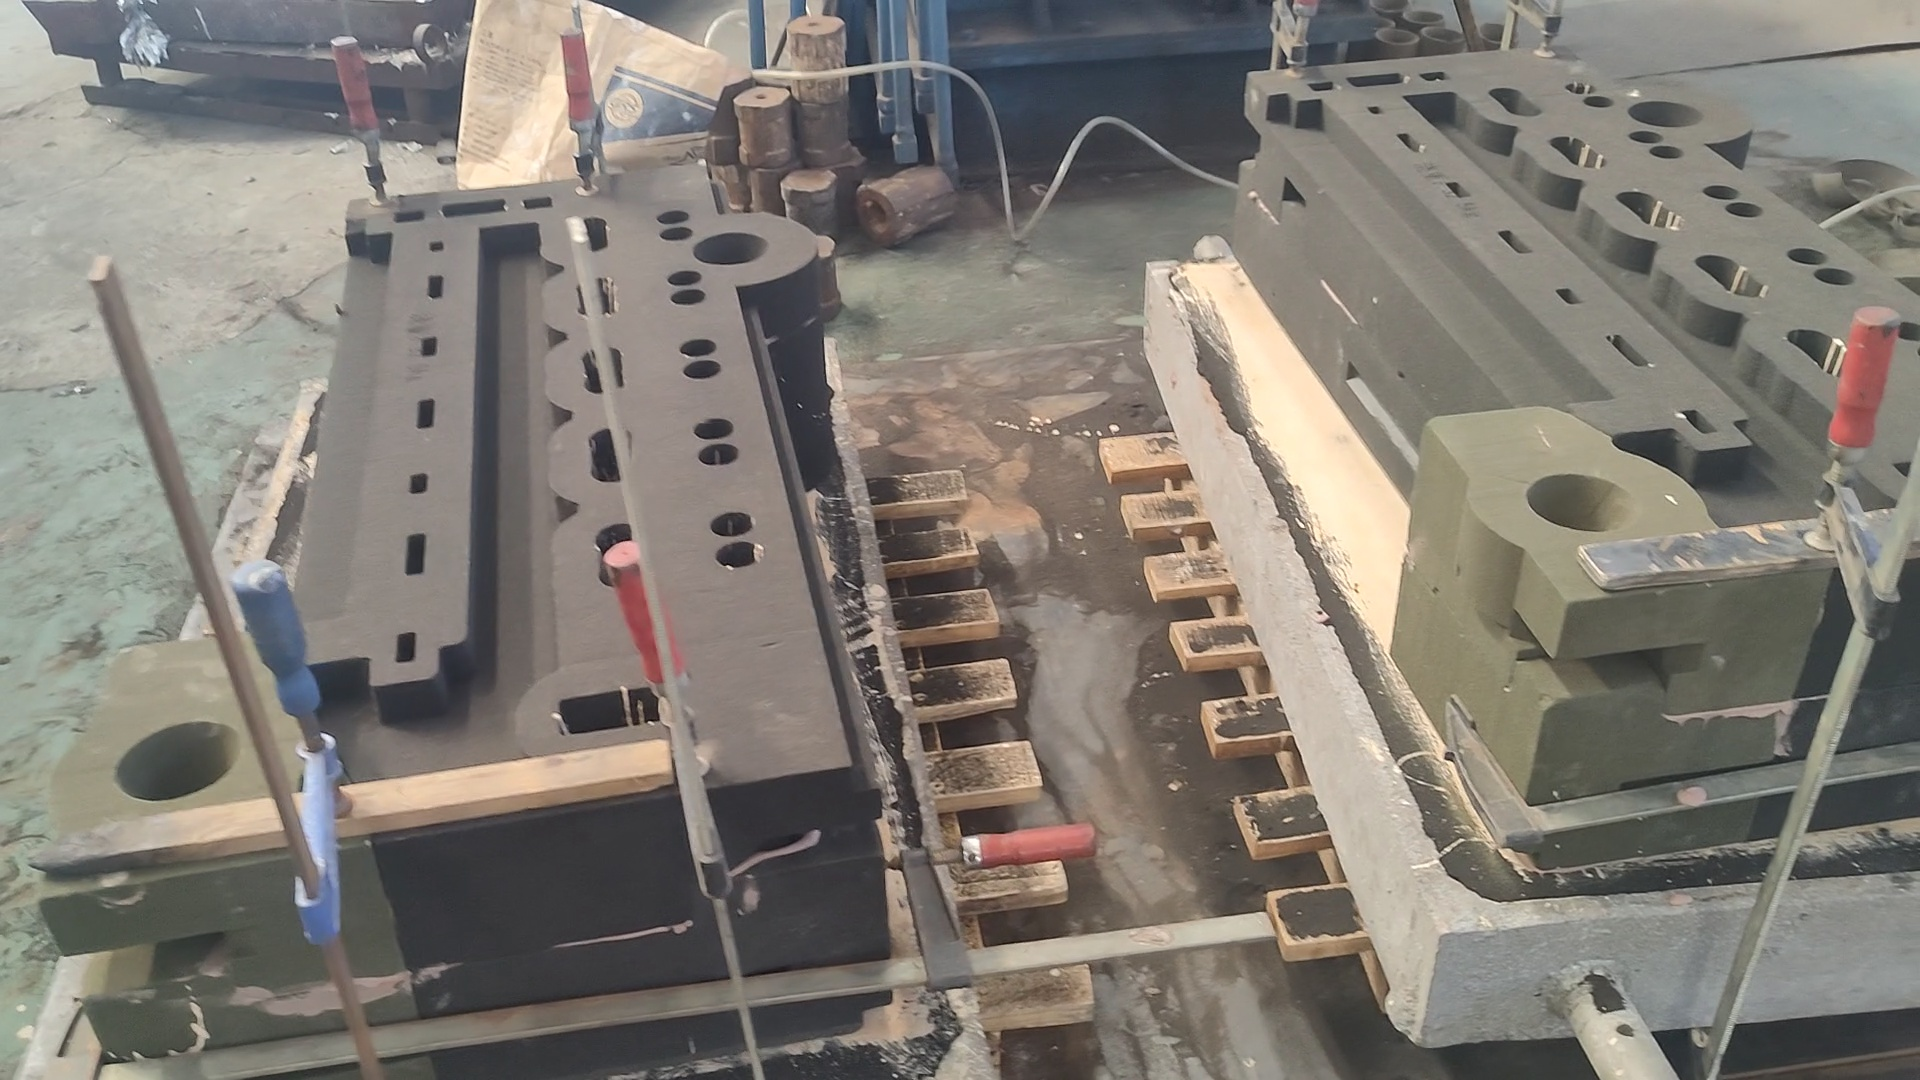pouring hole: (115, 720, 243, 802), (1527, 473, 1639, 531), (692, 233, 770, 265), (1627, 102, 1705, 128), (1480, 22, 1519, 41), (1422, 26, 1466, 42), (1377, 29, 1418, 44), (1403, 9, 1444, 22), (1360, 15, 1394, 29), (1370, 1, 1407, 11)
